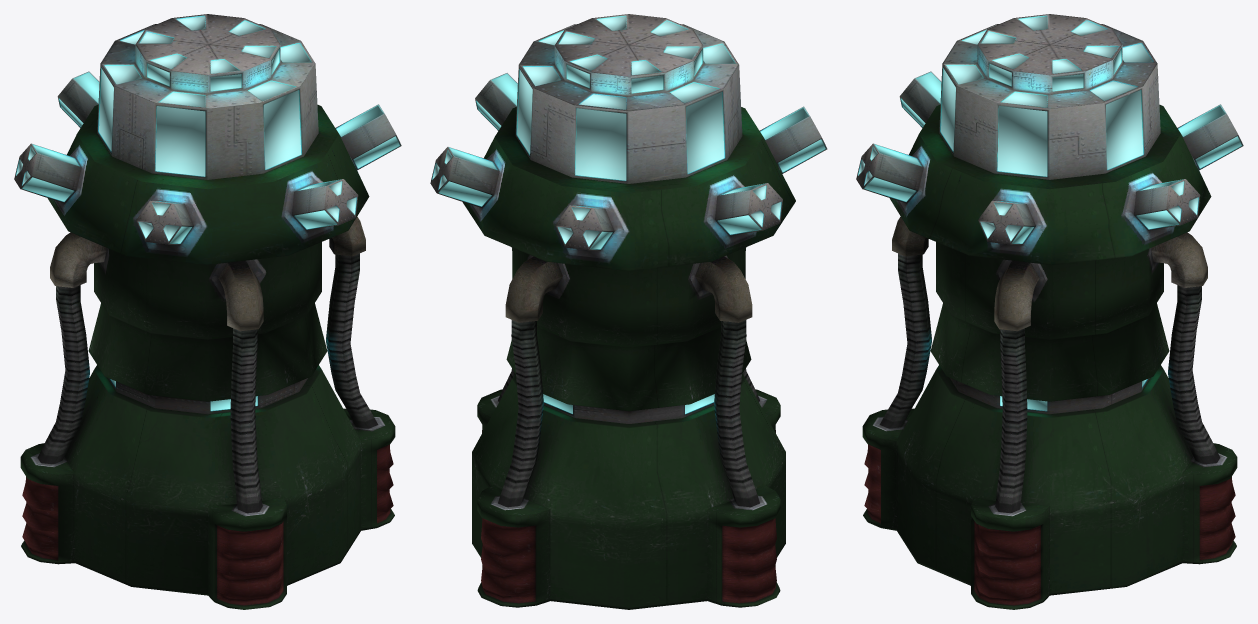
The model's file is plasma_g.glb.
3 renders of one model, left to right at view 1: azimuth 30°, elevation 25°; view 2: azimuth 150°, elevation 25°; view 3: azimuth 270°, elevation 25°, orthographic. The views are drawn at different scales.
Parts seen in each view (by area): view 1: objCylinder04; view 2: objCylinder04; view 3: objCylinder04.
Part boxes in pixels (x1,y1,x2,y2): objCylinder04: (14, 14, 401, 609); objCylinder04: (430, 14, 827, 609); objCylinder04: (856, 14, 1243, 609).
Size of the model in its own units: 136 by 188 by 136.
1 material, 1 textured.
